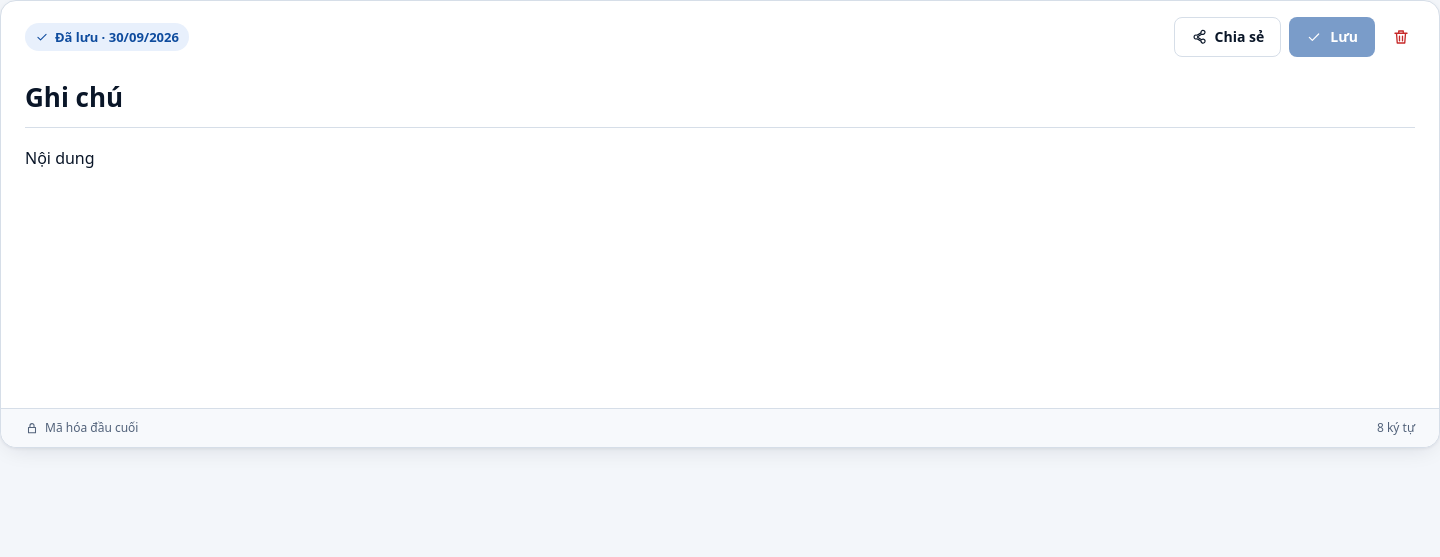
Test: NoteEditor: không âm thầm ghi đè › máy chủ báo VERSION_CONFLICT: hiện lựa chọn, chữ của người dùng còn nguyên, khóa nút Lưu
Replace the text in the text box named "Nội dung ghi chú" with "Bản của tôi" at (720, 268), box [25,128,1415,408]
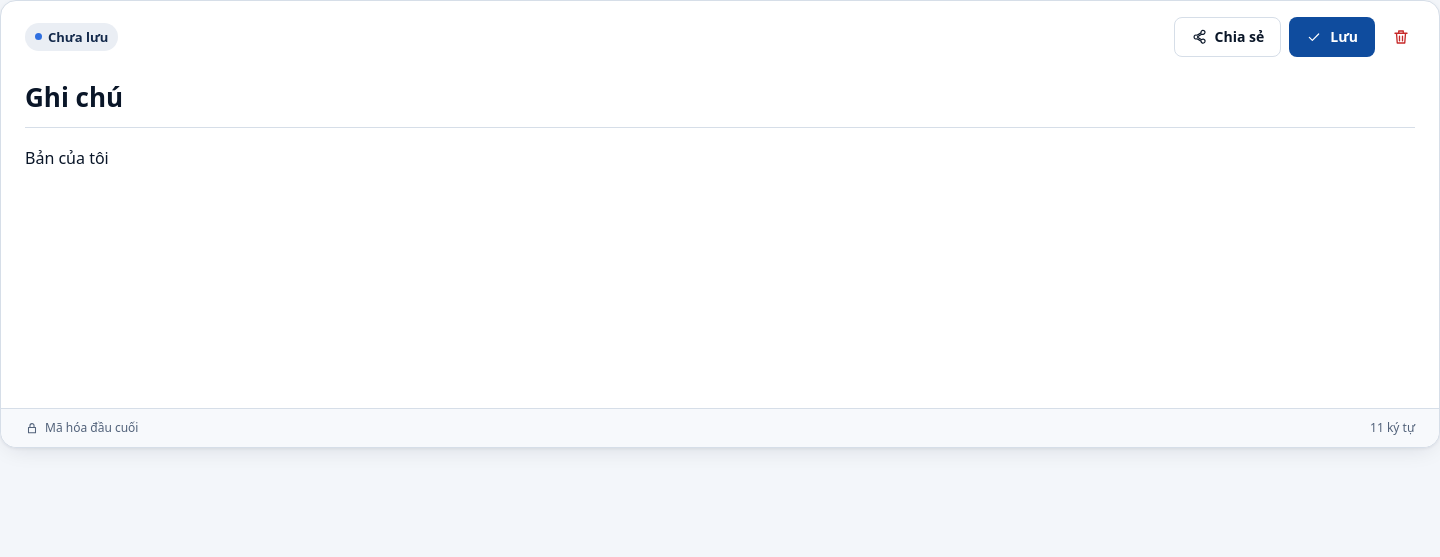
Click the button "Lưu" at (1332, 37), box [1289,17,1375,57]
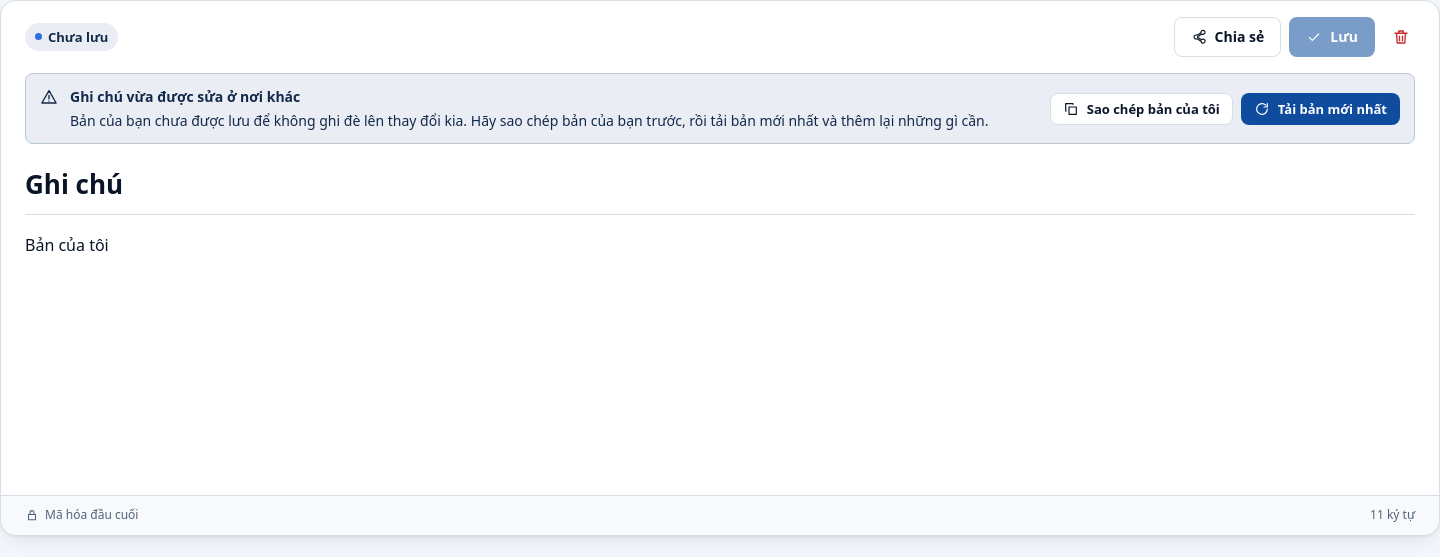
Now the text "Ghi chú vừa được sửa ở nơi khác" is shown, box [70,87,300,106]
Now the button "Lưu" is disabled, box [1289,17,1375,57]
